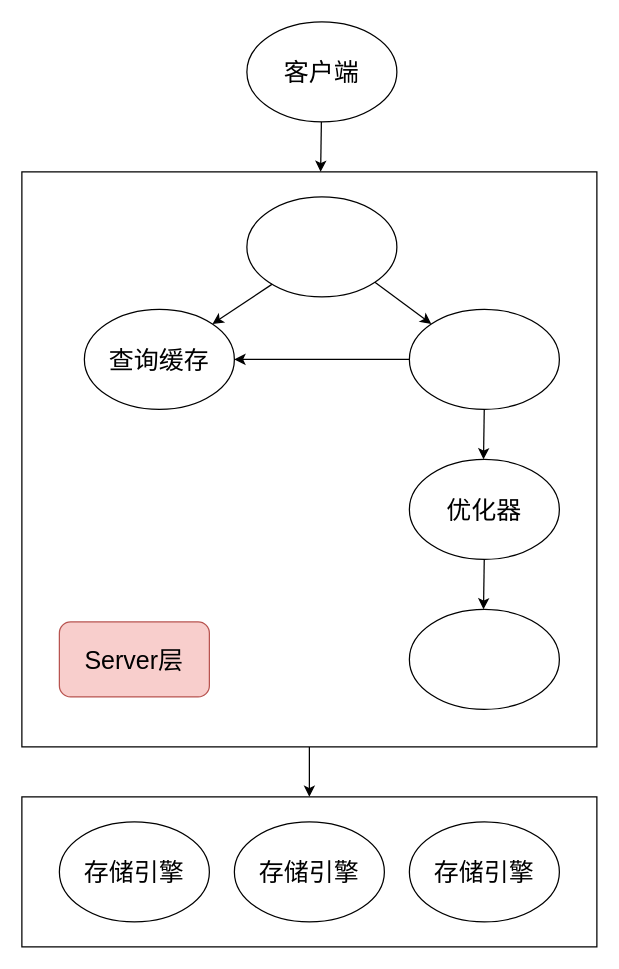
This 619x969 diagram has some shape labels left out. Here are the shapes that lost their labels. From the top down, the box of each, then its label:
(246, 196, 397, 297): 连接器
(408, 308, 559, 409): 分析器
(408, 608, 559, 709): 执行器
